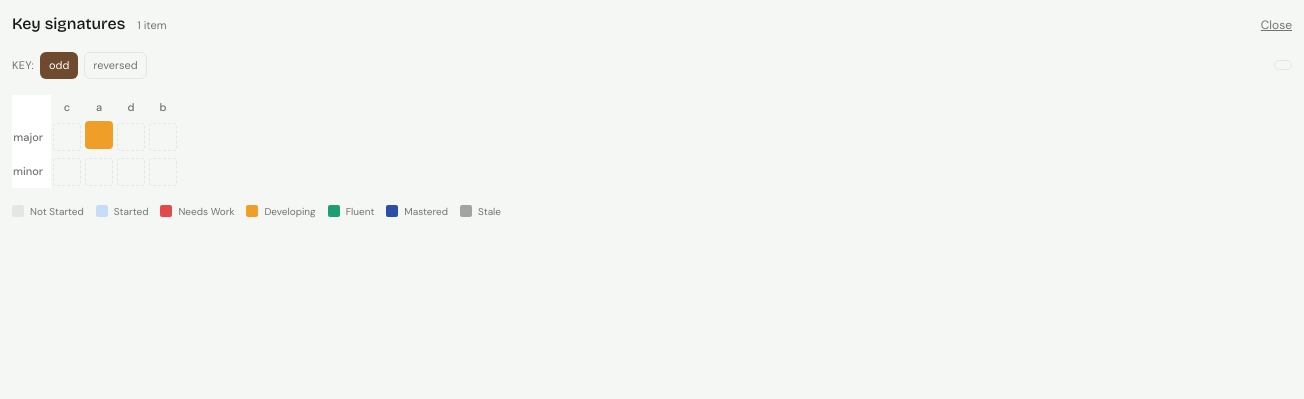
an item opens onto its real reps › draws the strip from window rows, not from the tier
Click the button with test id "grid-cell" at (99, 135), box [85,121,113,149]
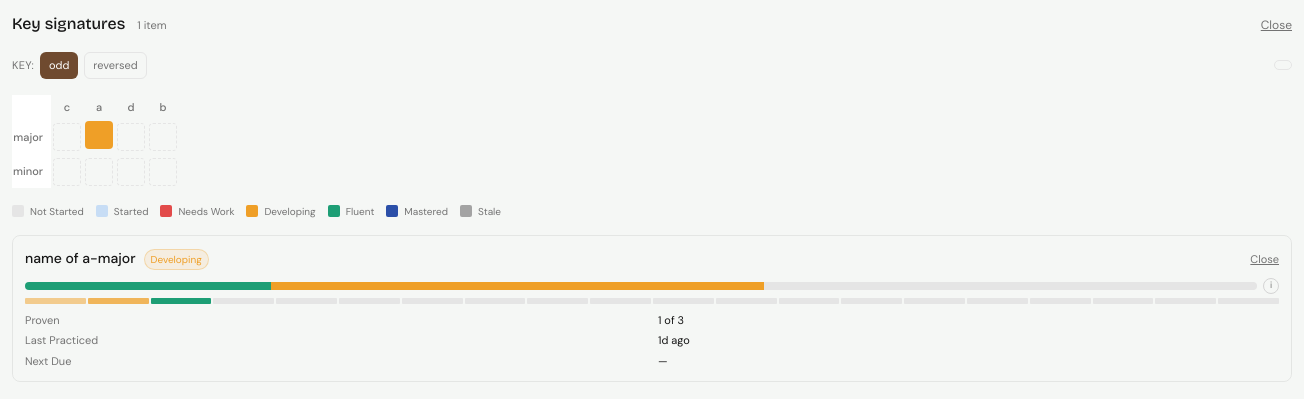
Expected: the text with test id "item-proven" reads "1 of 3", [658,312,684,326]
